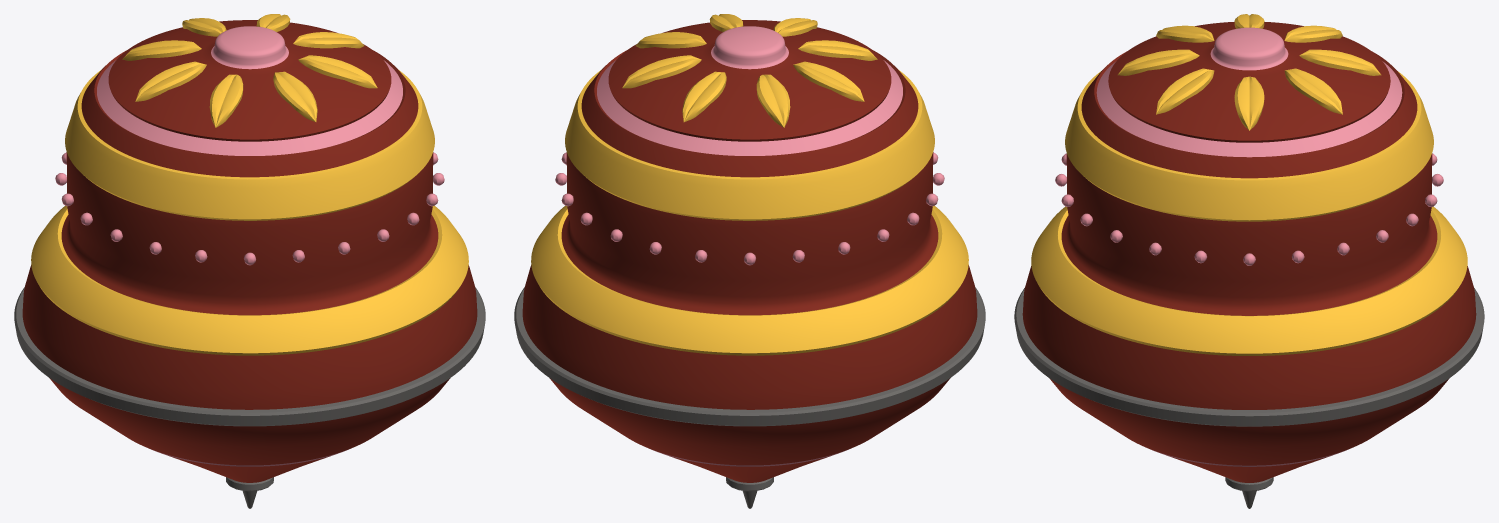
File: gasing_melaka.glb
3 views of the same model, side by side, from view 1: azimuth 30°, elevation 25°; view 2: azimuth 150°, elevation 25°; view 3: azimuth 270°, elevation 25° (orthographic).
Parts seen in each view (by area): view 1: Gasing_melaka; view 2: Gasing_melaka; view 3: Gasing_melaka.
Part boxes in pixels (left/top/right/bottom): Gasing_melaka: left=14, top=14, right=485, bottom=508; Gasing_melaka: left=514, top=14, right=985, bottom=508; Gasing_melaka: left=1014, top=14, right=1484, bottom=508.
Bounding box in the file's own units: 0.88 × 0.9701 × 0.88.
